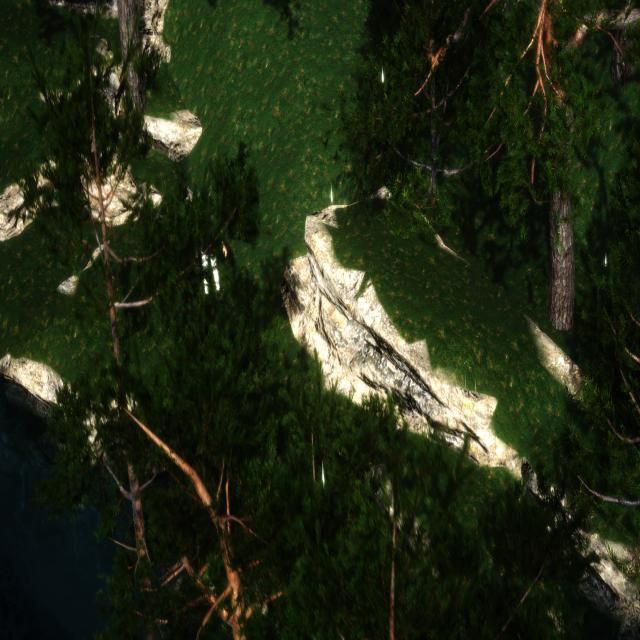Human: (193, 191, 229, 315)
